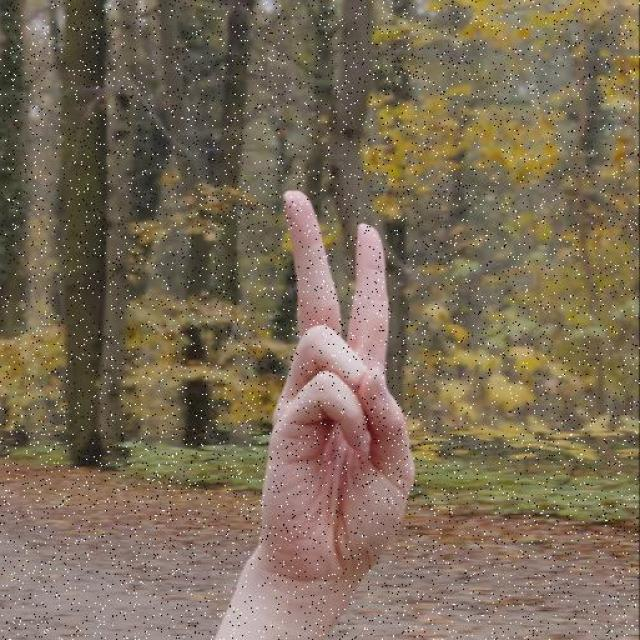V: (234, 185, 426, 595)
